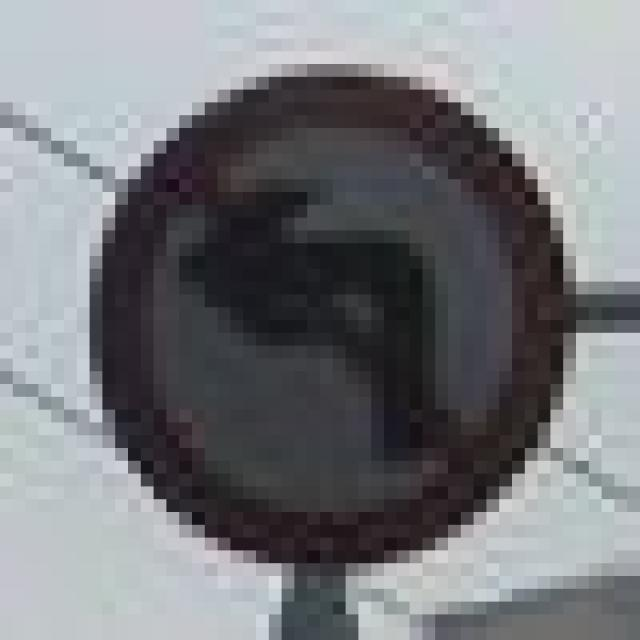LEFT_TURN_PROHIBITED: (77, 64, 563, 563)
